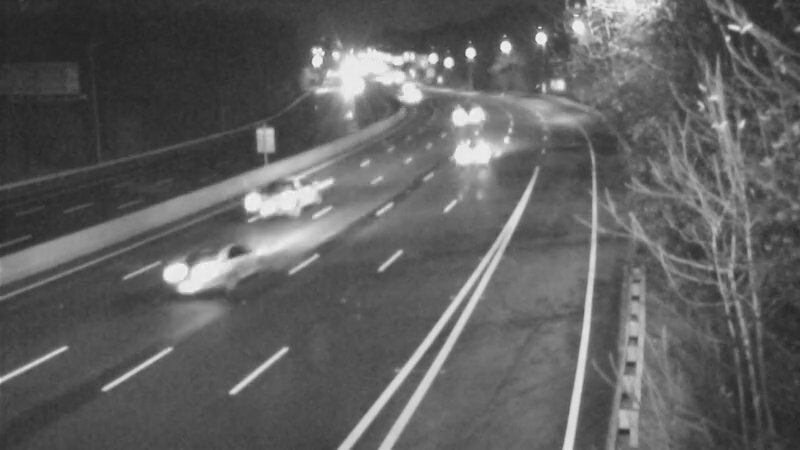vehicle: (429, 111, 509, 191), (238, 158, 318, 238), (174, 228, 254, 308), (387, 73, 437, 123), (441, 84, 491, 134)
